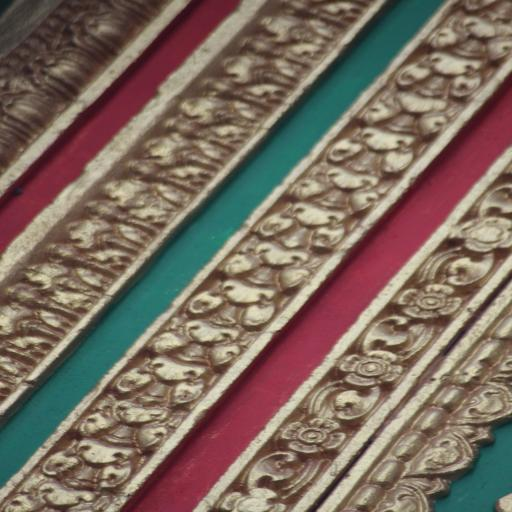hoa: (282, 410, 350, 459), (341, 344, 404, 389), (392, 280, 463, 319), (453, 214, 512, 254)
la: (60, 412, 149, 490), (210, 446, 308, 512), (162, 296, 252, 364), (220, 233, 301, 306), (108, 356, 199, 418), (62, 212, 158, 270), (396, 52, 491, 108), (222, 47, 318, 101), (356, 94, 445, 151), (249, 0, 338, 56), (143, 131, 224, 191), (314, 139, 408, 190), (161, 96, 267, 141), (276, 184, 355, 244), (21, 257, 105, 313), (108, 176, 183, 232), (434, 1, 512, 53), (61, 2, 147, 49), (0, 293, 63, 354), (421, 237, 495, 286), (19, 46, 95, 92), (311, 375, 388, 418), (412, 424, 478, 474), (0, 485, 116, 512), (366, 311, 429, 358), (368, 476, 438, 512), (0, 92, 51, 139), (462, 386, 512, 422)
